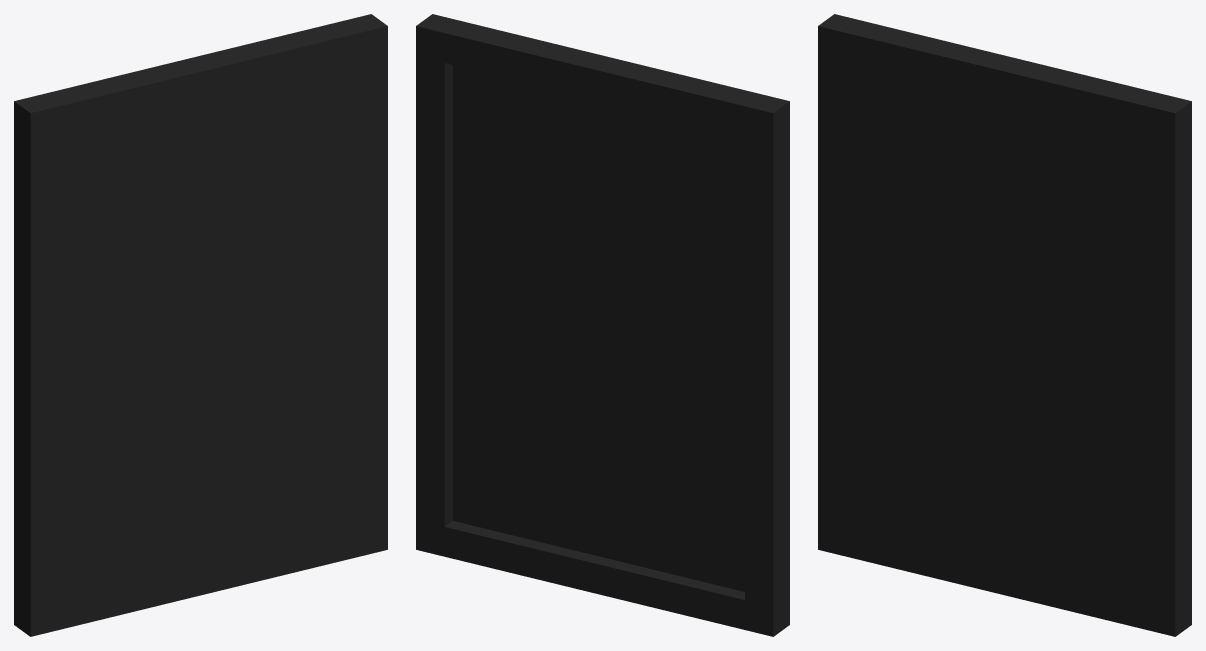
Rendered from frame_01.dae.
3 renders of one model, left to right at view 1: azimuth 30°, elevation 25°; view 2: azimuth 150°, elevation 25°; view 3: azimuth 330°, elevation 25°, orthographic.
Visible parts, largest first — view 1: Untitled; view 2: Untitled; view 3: Untitled.
Part boxes in pixels (x1,y1,x2,y2): Untitled: (14, 14, 387, 636); Untitled: (416, 14, 789, 636); Untitled: (818, 14, 1191, 636).
Bounding box in the file's own units: 0.75 × 0.06 × 1.05.
1 material, 1 textured.
